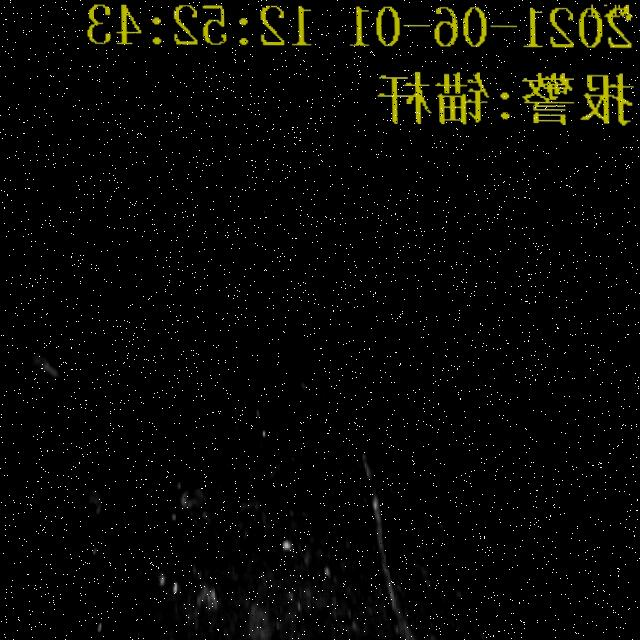bolt: (352, 437, 448, 640)
